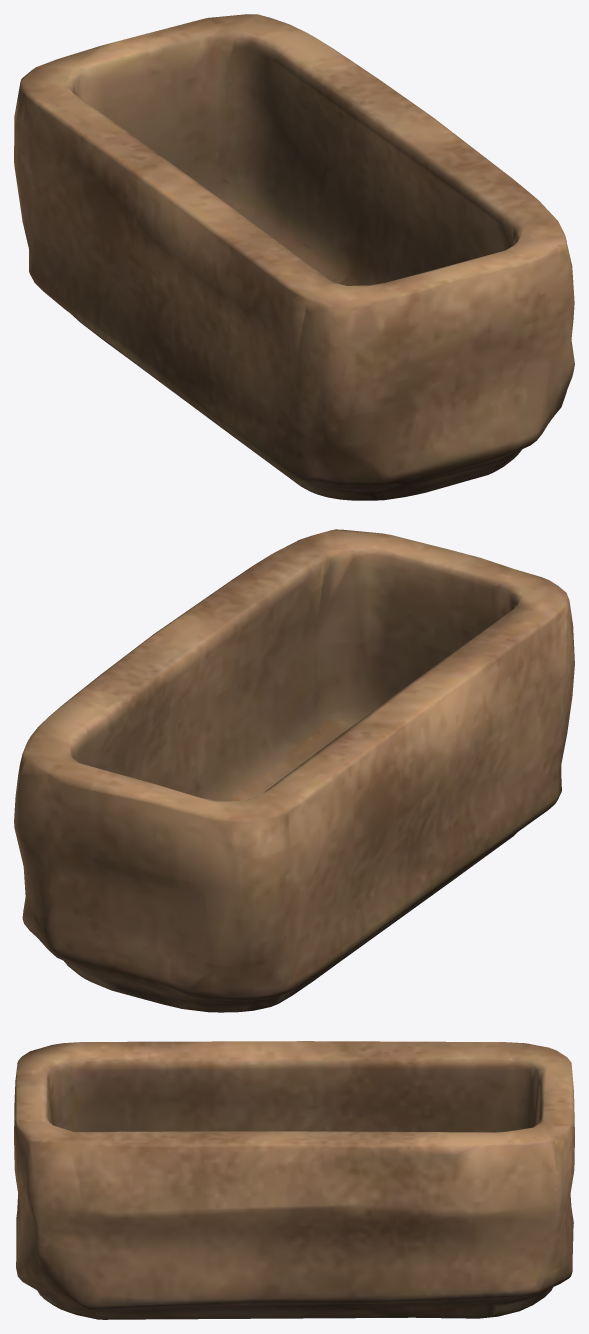
Rendered from worn-sandstone-trough-v001.glb.
The picture shows the model from 3 angles, top to bottom: view 1: azimuth 30°, elevation 25°; view 2: azimuth 150°, elevation 25°; view 3: azimuth 270°, elevation 25°; orthographic projection. The views are drawn at different scales.
Parts seen in each view (by area): view 1: worn-sandstone-trough; view 2: worn-sandstone-trough; view 3: worn-sandstone-trough.
Part boxes in pixels (bbox=[...]): worn-sandstone-trough: bbox=[14, 14, 574, 500]; worn-sandstone-trough: bbox=[14, 529, 574, 1012]; worn-sandstone-trough: bbox=[14, 1041, 574, 1319].
Bounding box in the file's own units: 0.7324 × 0.5587 × 1.48.
1 material, 1 textured.
